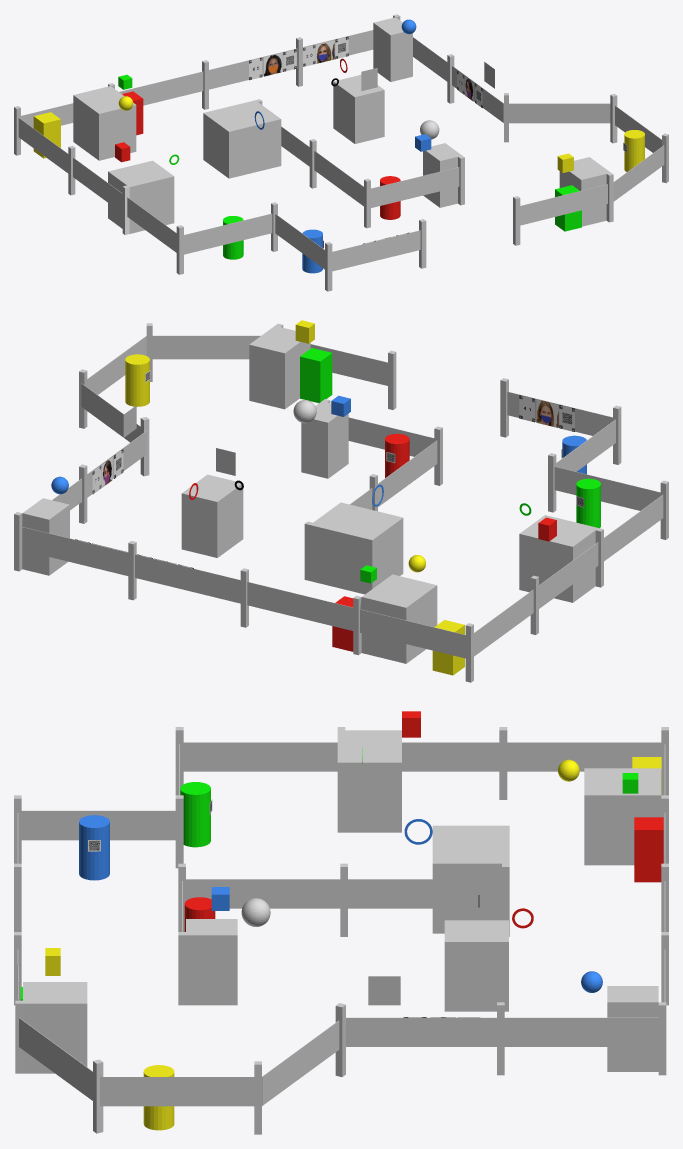
Rendered from rins_task3_3.dae.
3 views of the same model, one above another, from view 1: azimuth 30°, elevation 25°; view 2: azimuth 150°, elevation 25°; view 3: azimuth 270°, elevation 25° (orthographic). The views are drawn at different scales.
Visible parts, largest first — view 1: SketchUp (×26), instance_2, instance_0; view 2: SketchUp (×26), instance_0, instance_2, instance_1; view 3: SketchUp (×27), instance_1.
Part boxes in pixels (x1,y1,x2,y2): SketchUp (×26): (14, 14, 668, 291); instance_2: (33, 112, 60, 158); instance_0: (555, 185, 581, 231); SketchUp (×26): (14, 323, 668, 682); instance_0: (300, 348, 332, 402); instance_2: (432, 620, 464, 675); instance_1: (332, 596, 353, 651); SketchUp (×27): (15, 727, 668, 1134); instance_1: (634, 817, 663, 882).
Bounding box in the file's own units: 245 × 201 × 35.7.
